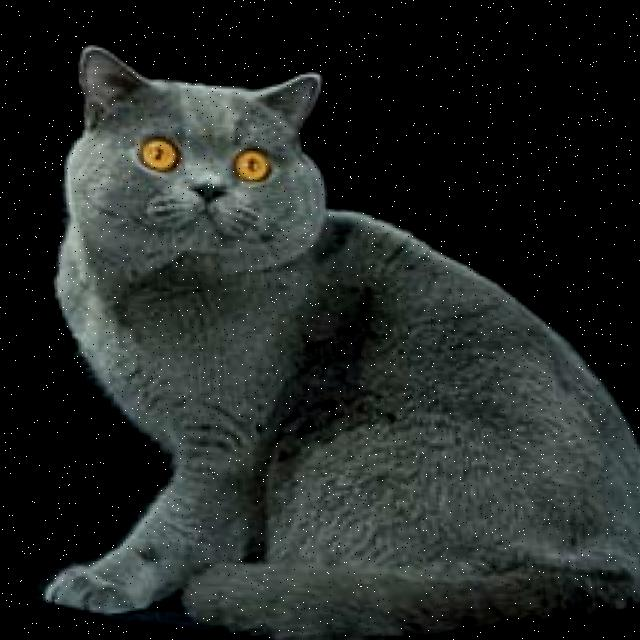British Shorthair: (1, 12, 640, 640)
